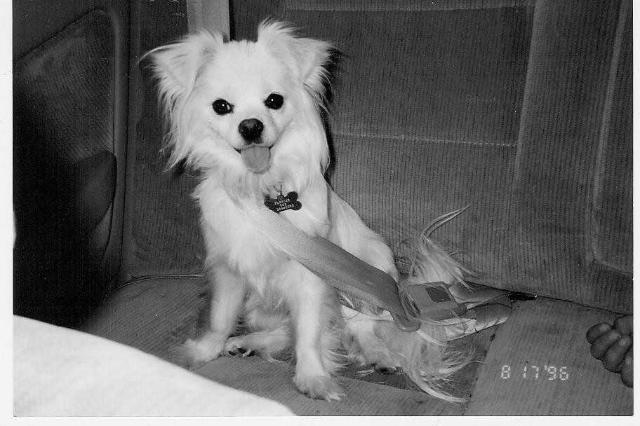Seatbelt: (222, 178, 508, 334)
